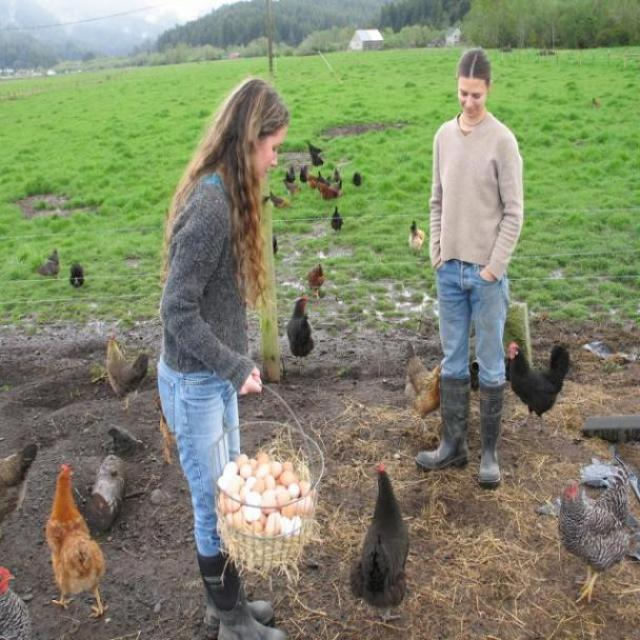Chicken: (558, 462, 633, 605), (46, 463, 110, 620), (349, 469, 406, 619), (506, 341, 570, 432), (108, 334, 149, 401), (286, 295, 314, 366), (301, 167, 344, 199), (33, 249, 62, 282), (309, 265, 325, 299), (68, 260, 84, 289), (332, 206, 344, 233)
